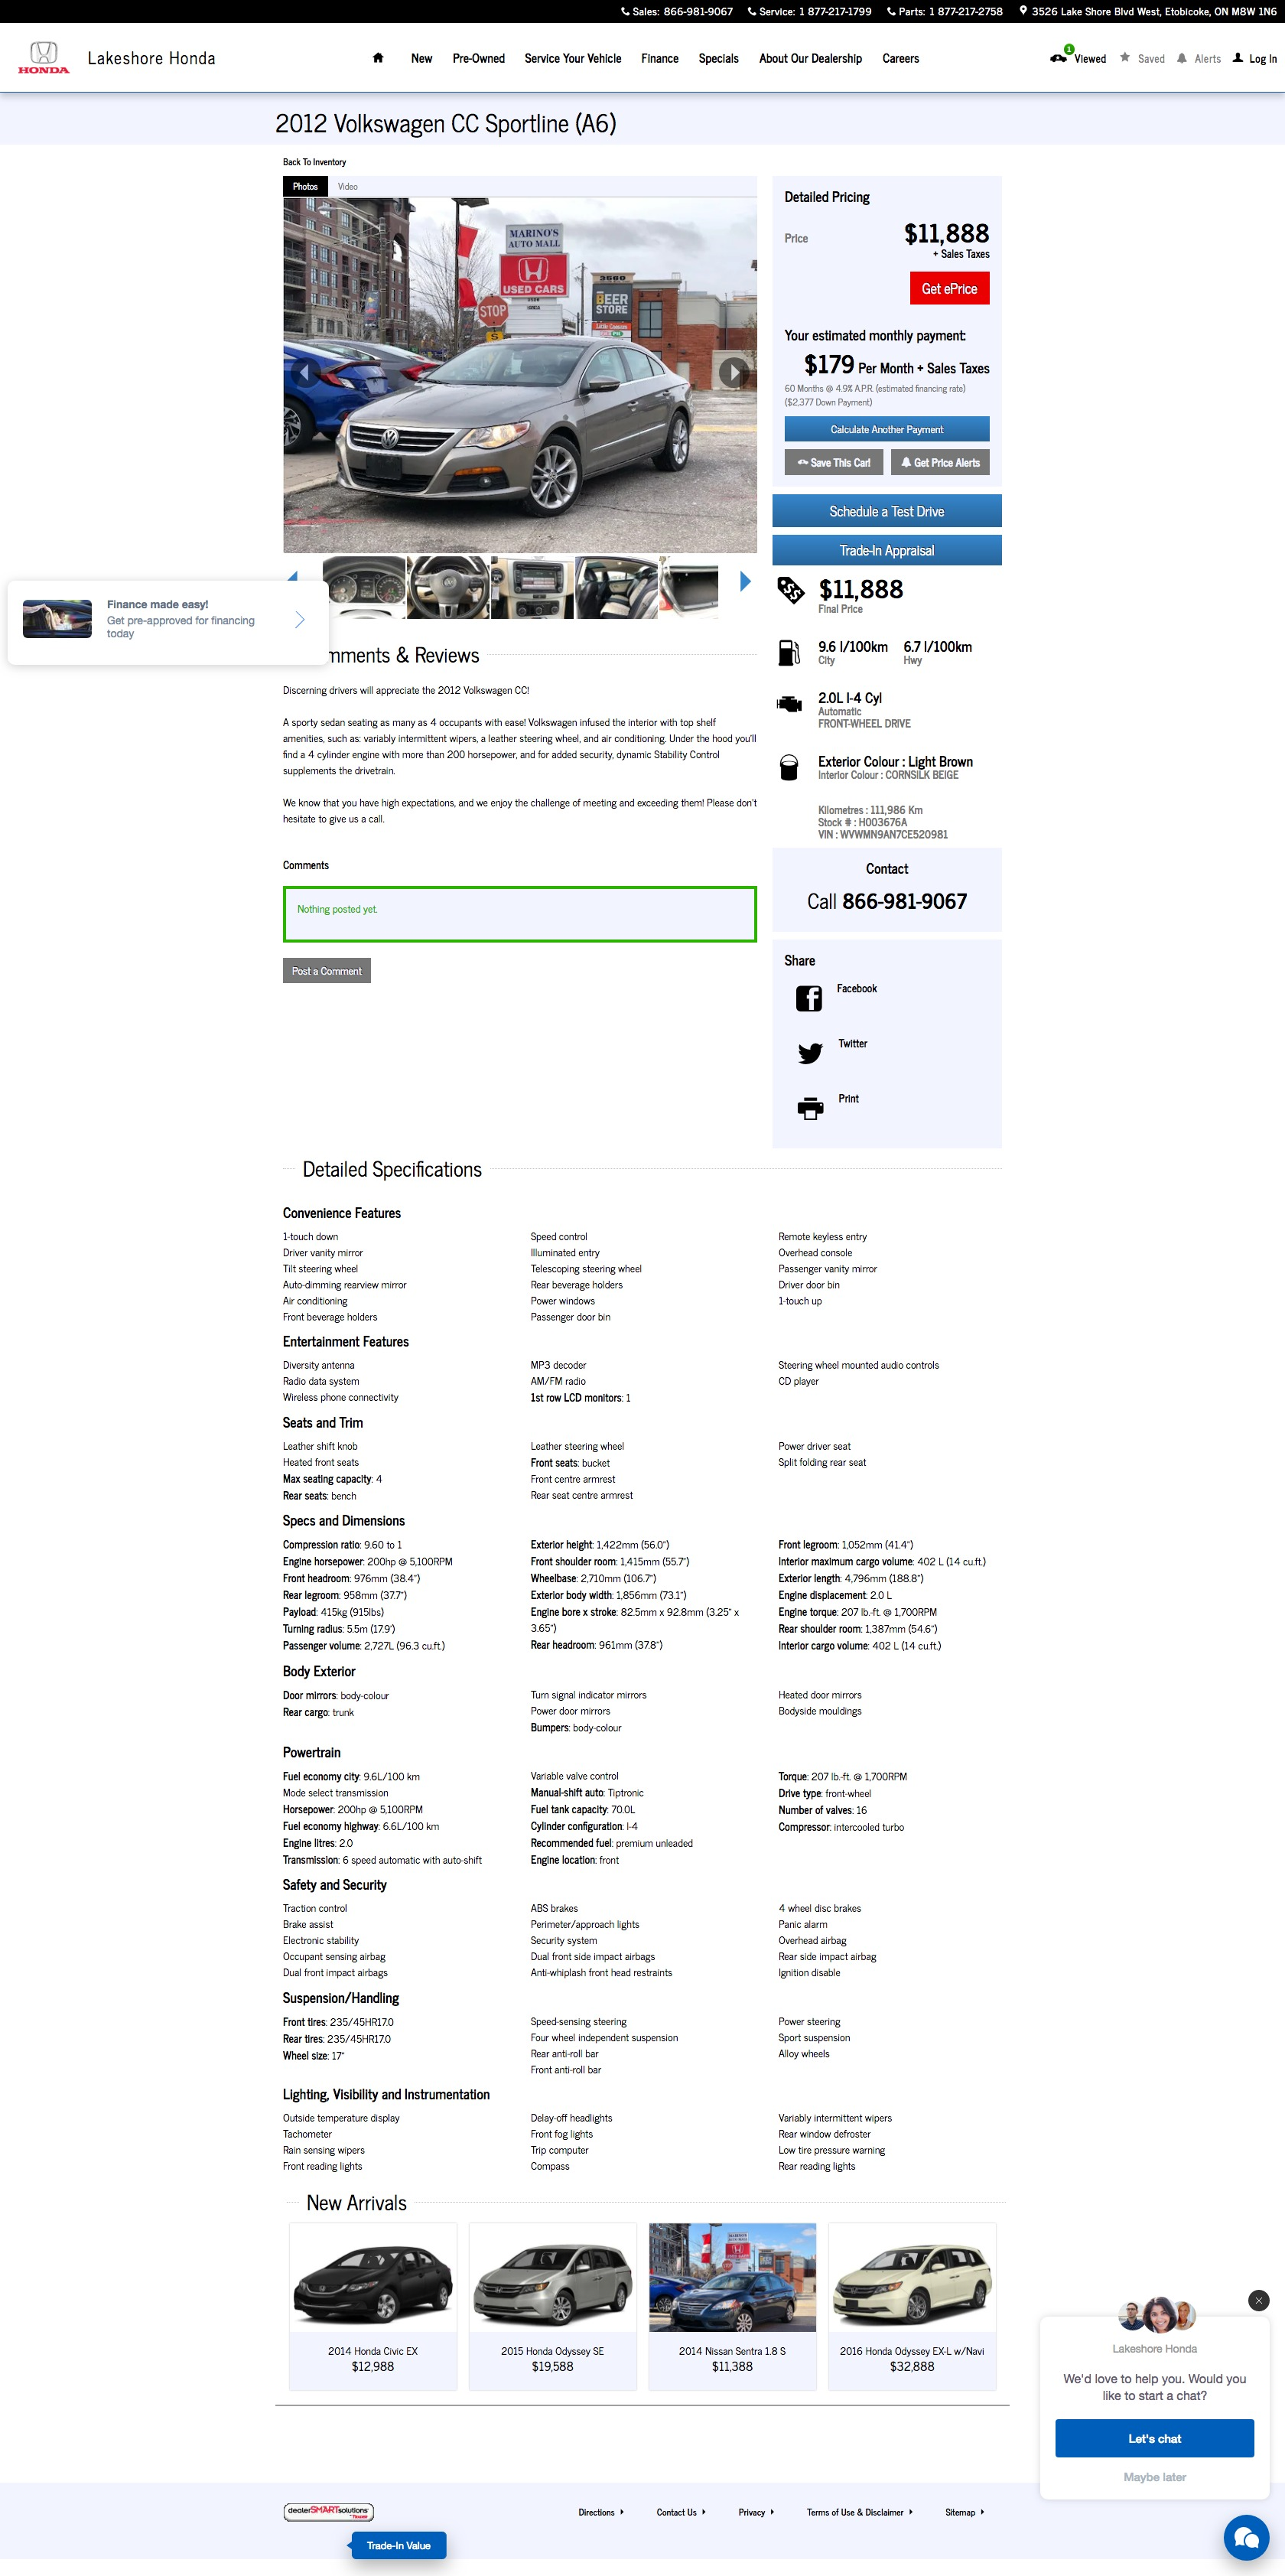car: (741, 570, 753, 593)
